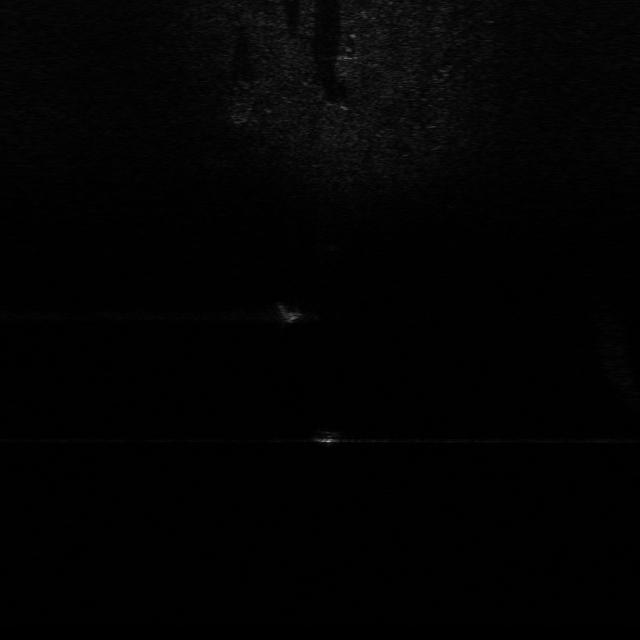cube: (304, 424, 354, 449)
square cage: (273, 294, 311, 324)
